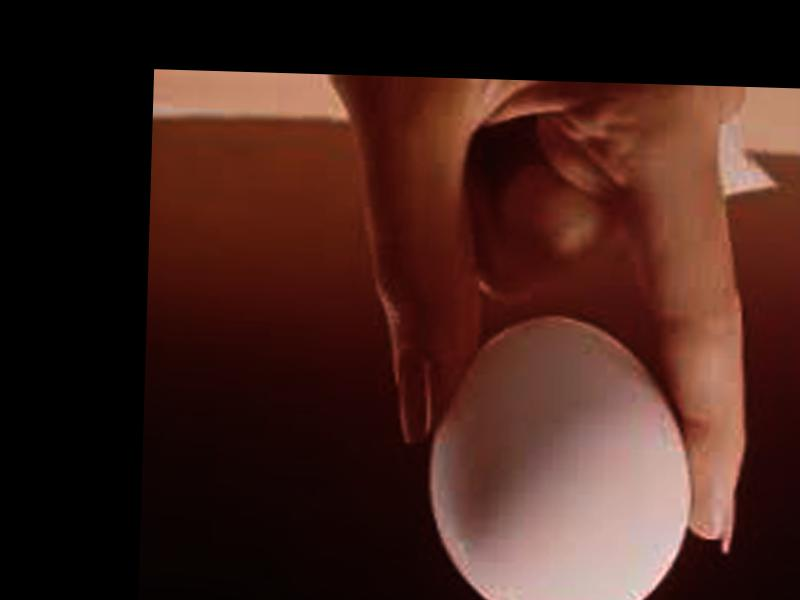Eggs: (420, 308, 696, 600)
